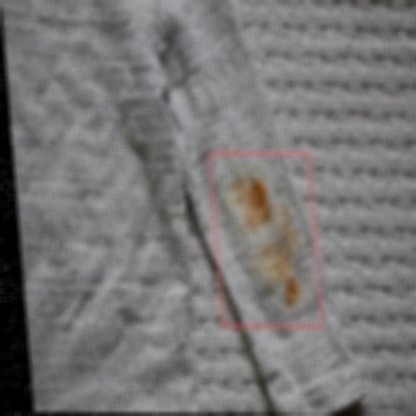kimchi: (226, 166, 300, 315)
